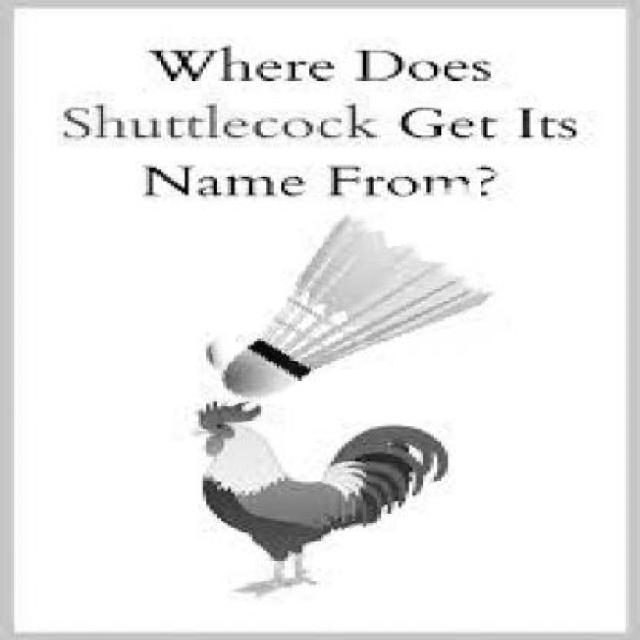Shuttlecock: (196, 197, 502, 392)
